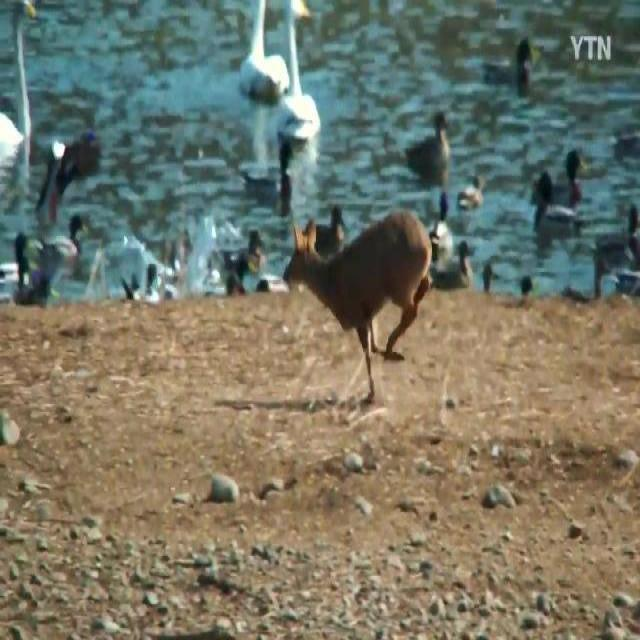deer: (284, 206, 432, 406)
